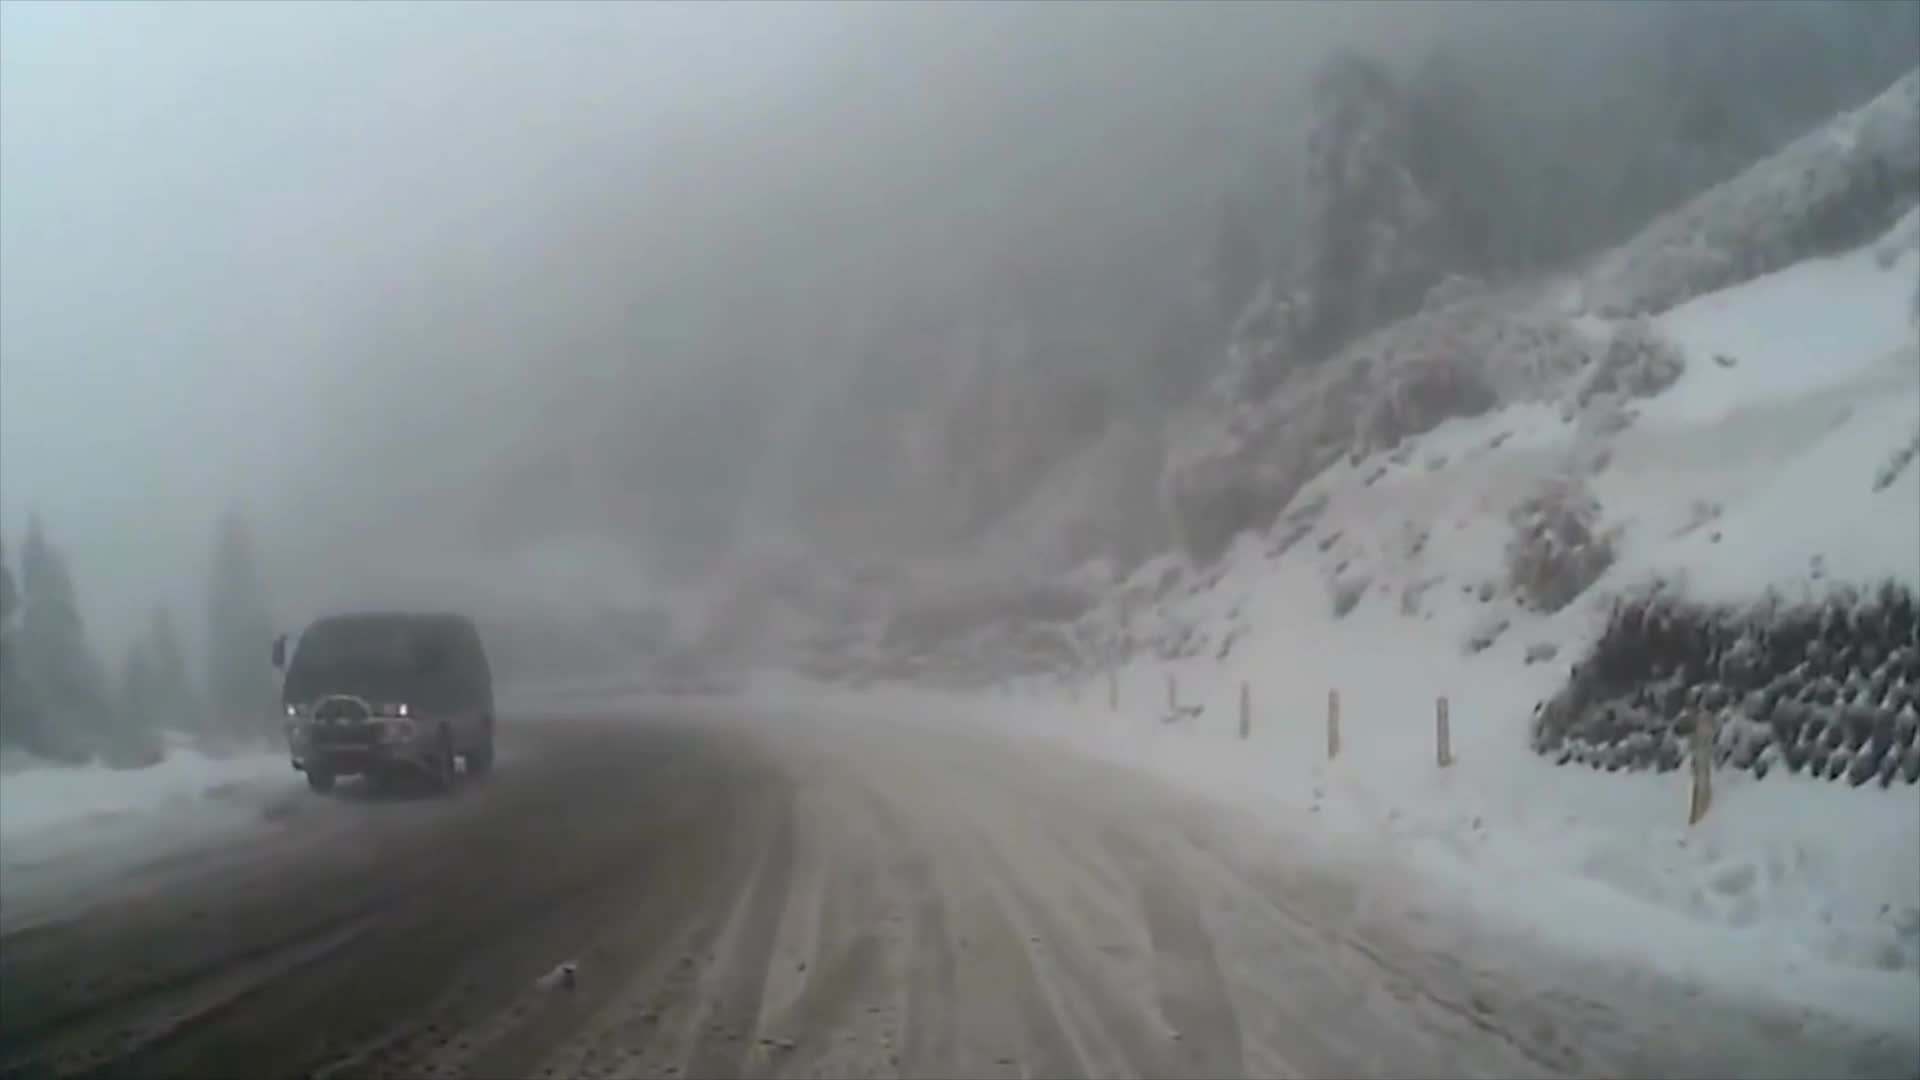vehicle: (269, 611, 498, 796)
